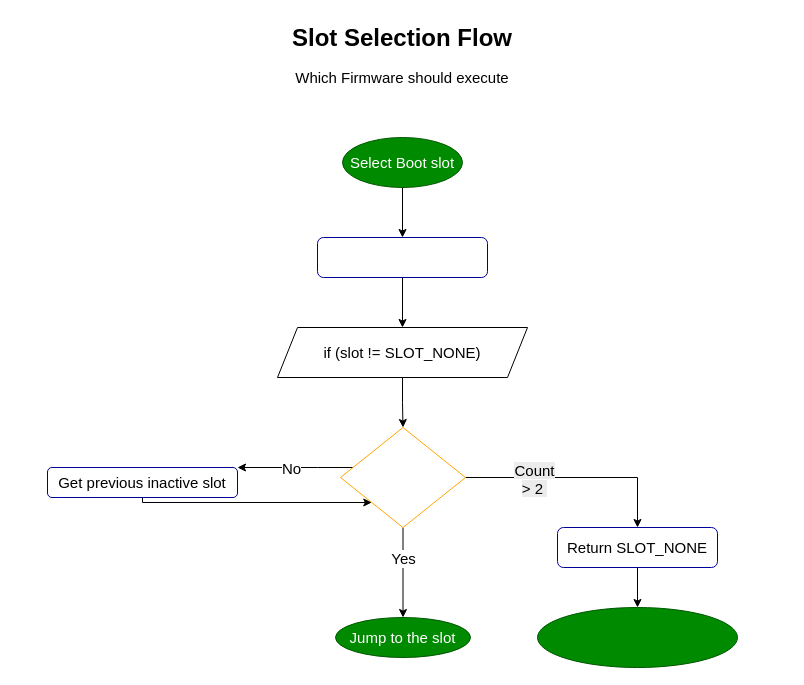
This 804x685 diagram has some shape labels left out. The shapes that lost their labels are listed below. From the top down, each one's centre as x and y in pixels, then its label:
At [402,257]: "Get previous active slot".
At [403,477]: "Is the slot Bootable, Count ++".
At [637,637]: "Wait for update request".
